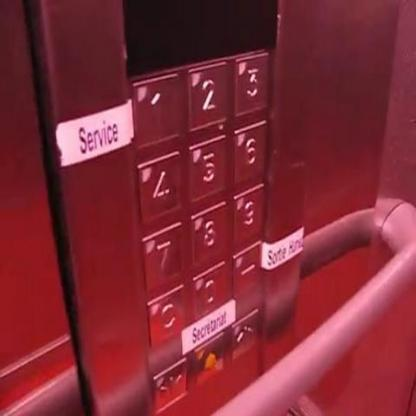-: (231, 242, 264, 295)
0: (193, 260, 228, 321)
1: (132, 74, 181, 148)
2: (186, 63, 228, 129)
3: (232, 51, 268, 117)
4: (135, 152, 183, 224)
5: (186, 132, 226, 205)
6: (231, 120, 264, 192)
7: (142, 222, 182, 298)
8: (190, 202, 228, 270)
9: (231, 182, 263, 255)
C: (144, 285, 186, 346)
alarm: (190, 332, 226, 388)
close: (153, 355, 188, 412)
open: (228, 310, 260, 360)
